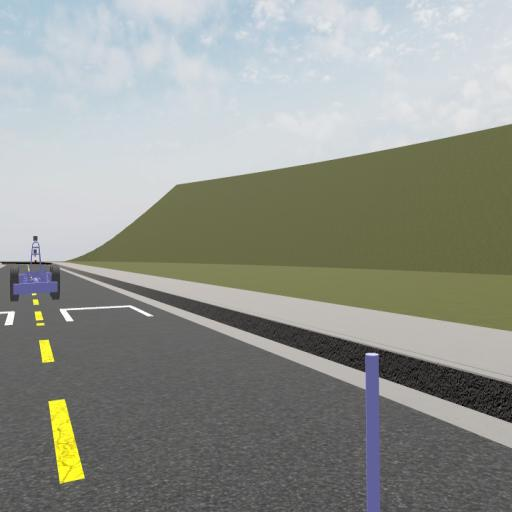ERP-42: (7, 238, 60, 301)
